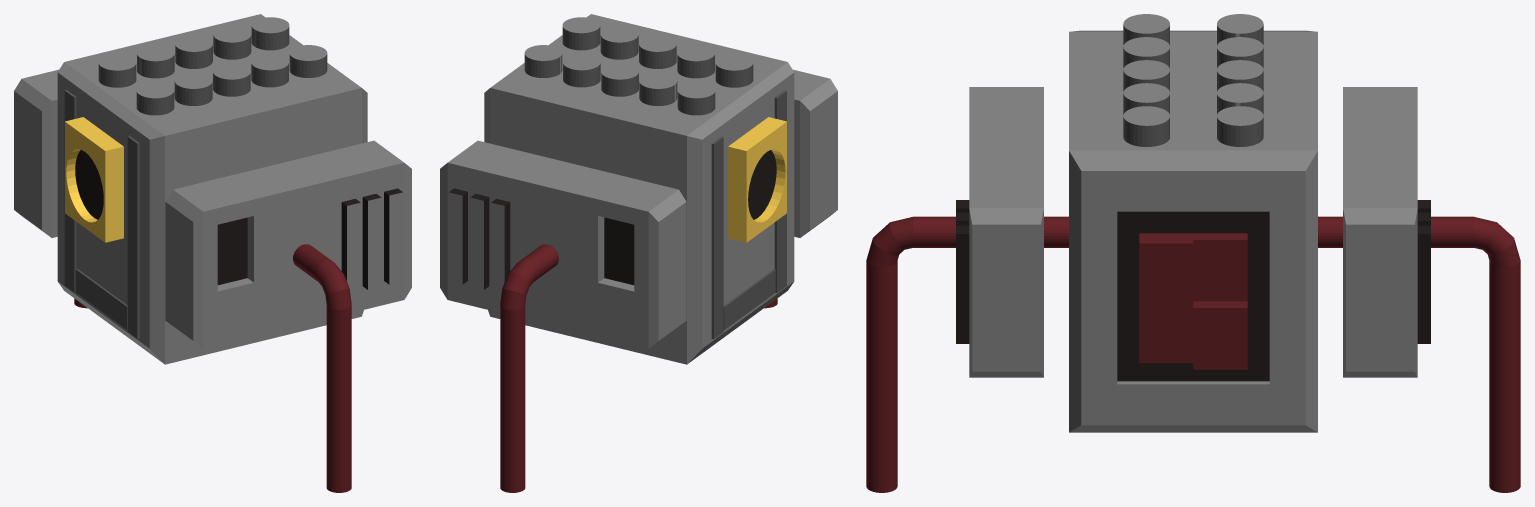
The model's file is MainBody.fbx.
3 renders of one model, left to right at view 1: azimuth 30°, elevation 25°; view 2: azimuth 150°, elevation 25°; view 3: azimuth 270°, elevation 25°, orthographic. The views are drawn at different scales.
Parts seen in each view (by area): view 1: MainBody; view 2: MainBody; view 3: MainBody.
Part boxes in pixels (box(x1,y1,x2,y2)): MainBody: box(14, 14, 411, 492); MainBody: box(440, 14, 837, 492); MainBody: box(866, 14, 1520, 492).
Bounding box in the file's own units: 232 × 295 × 420.
